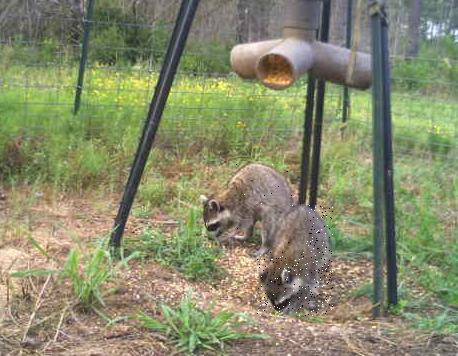Raccoon: (200, 162, 306, 253), (258, 205, 334, 316)
